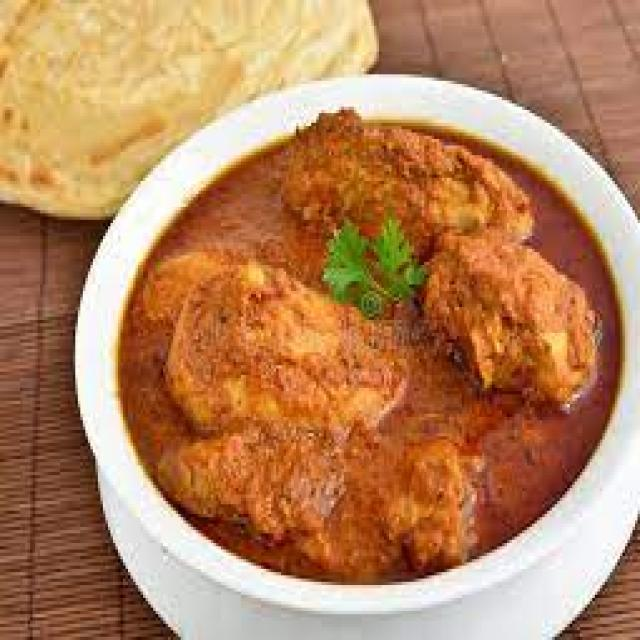Frango: (143, 94, 620, 578)
